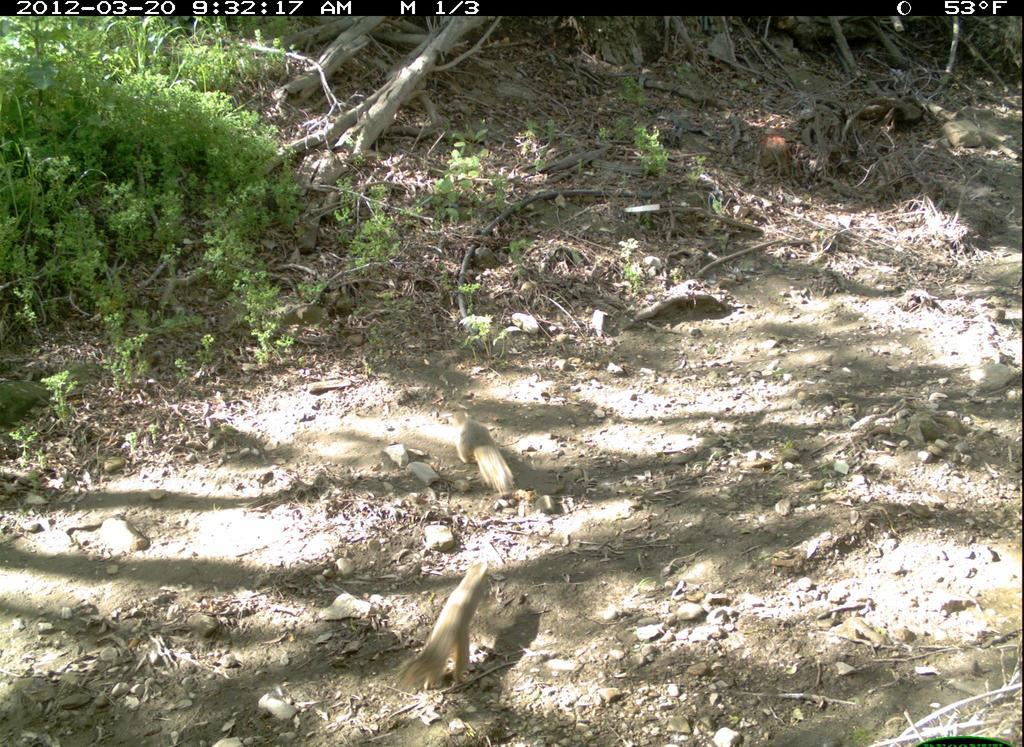squirrel: (441, 402, 528, 502)
